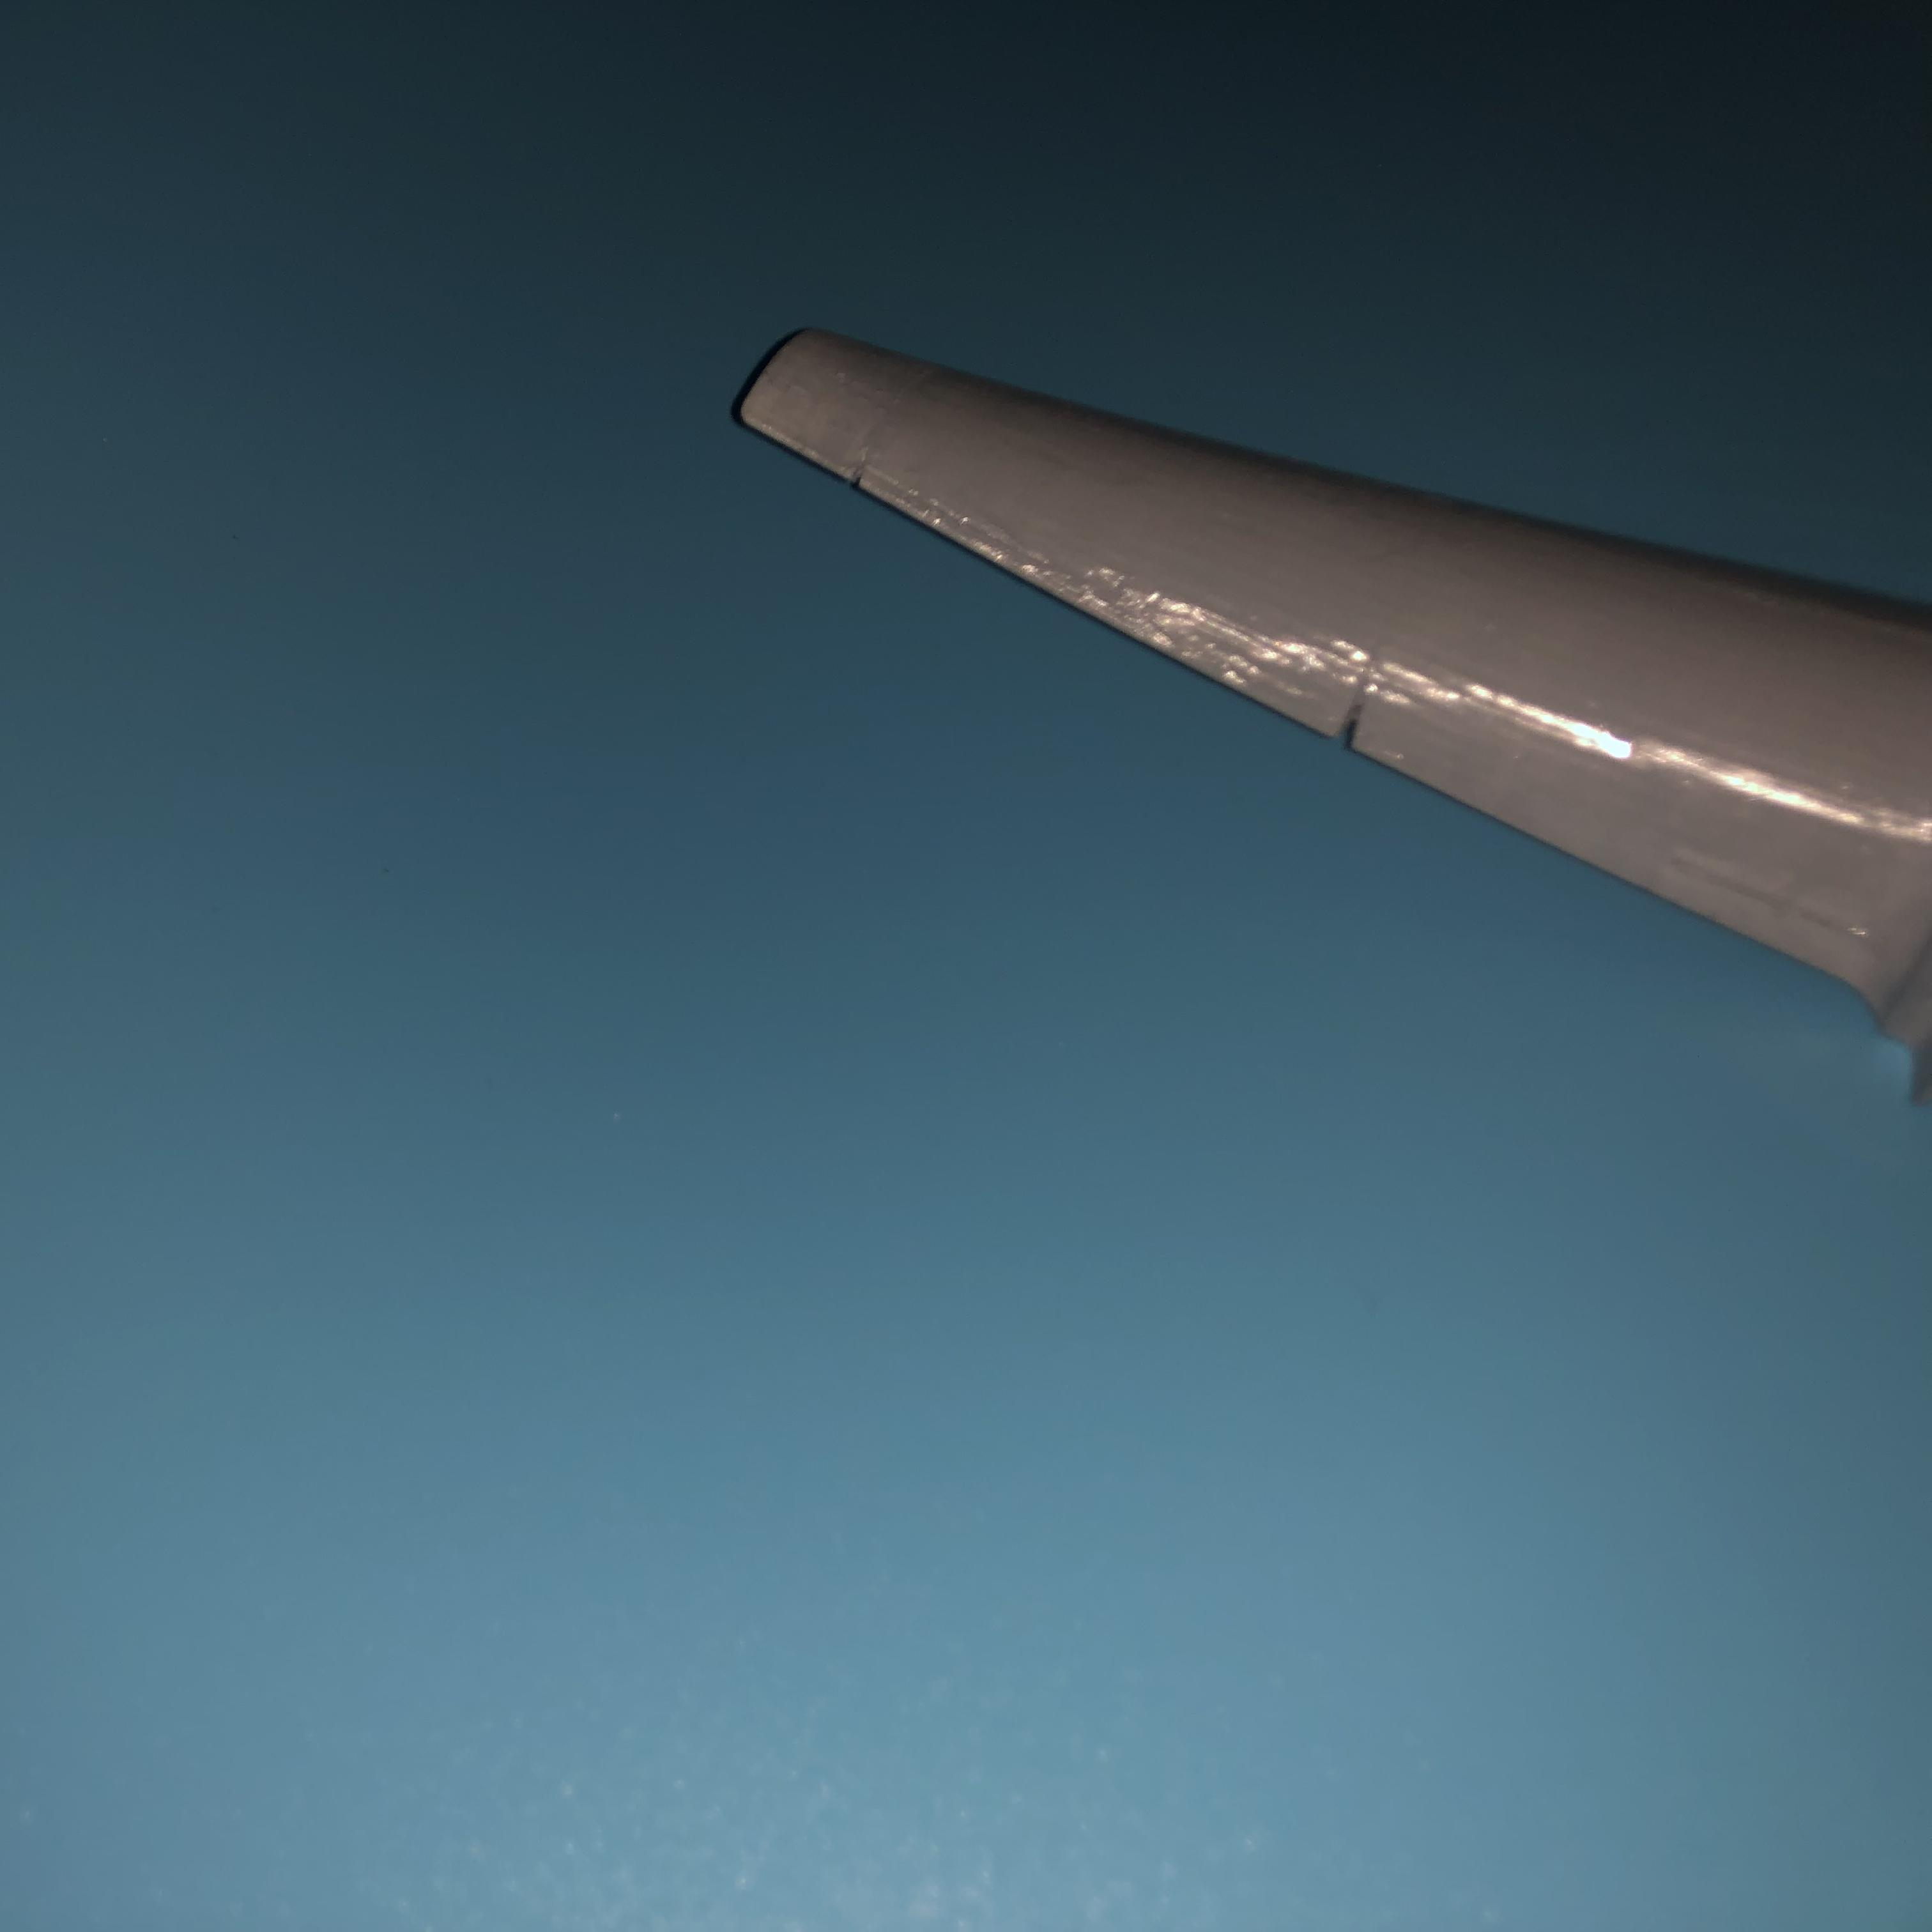groove: (1338, 678, 1376, 752), (835, 453, 885, 490)
